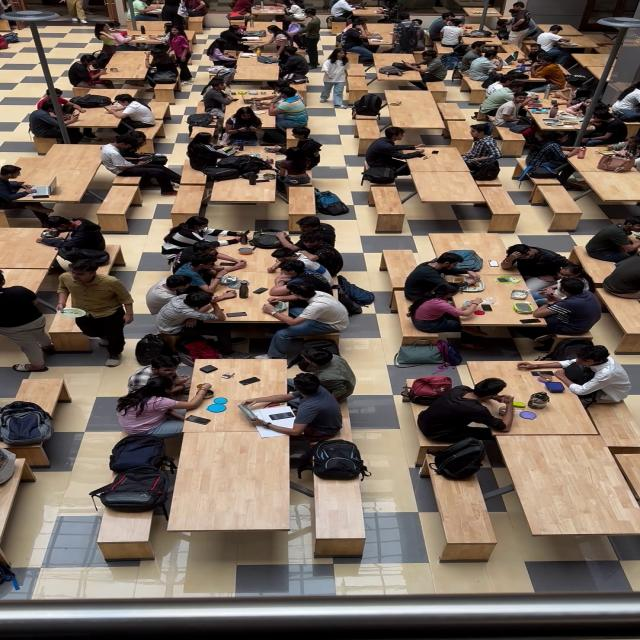Occupied: (166, 217, 358, 343), (401, 347, 640, 440), (393, 236, 604, 340), (121, 353, 343, 444), (30, 217, 138, 368), (0, 392, 73, 486), (32, 89, 155, 142), (93, 126, 187, 194), (417, 428, 504, 486), (352, 122, 421, 189), (115, 439, 172, 512), (0, 271, 43, 367), (1, 154, 66, 213), (306, 448, 368, 482)
Unoccupied: (437, 481, 507, 550), (315, 484, 373, 542), (471, 179, 526, 234), (95, 516, 168, 557), (364, 183, 416, 230)
